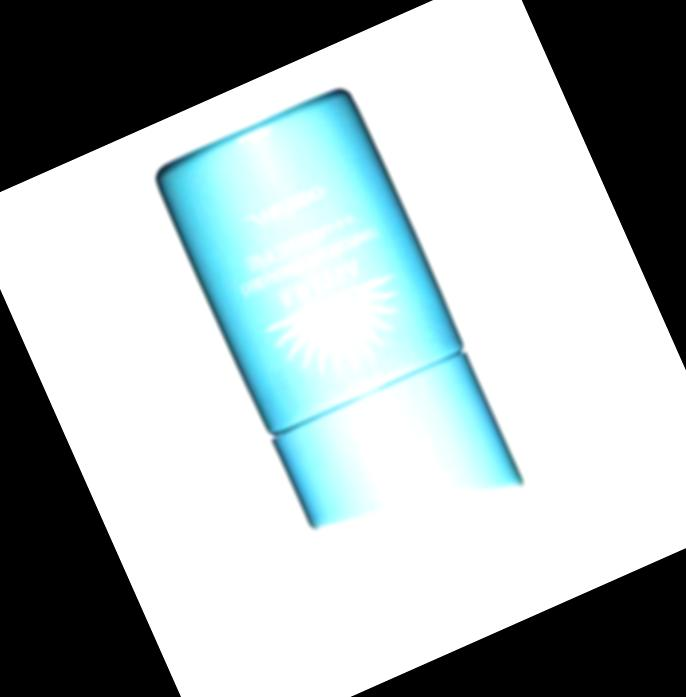cosmetic: (150, 80, 532, 575)
